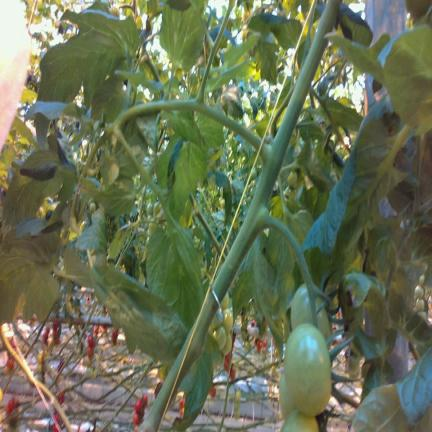6kp_peduncle: (235, 168, 315, 296)
6kp_petiole: (228, 111, 297, 201)
MainStem: (139, 0, 342, 432)
tomato: (284, 323, 331, 416), (291, 284, 332, 338), (281, 409, 319, 430), (279, 374, 294, 418), (222, 310, 233, 332), (216, 326, 226, 350), (222, 333, 232, 354), (287, 171, 297, 189), (211, 315, 221, 330), (221, 292, 229, 310), (148, 222, 157, 236), (153, 202, 161, 216), (414, 286, 423, 298), (415, 299, 424, 311), (135, 398, 142, 413), (88, 334, 95, 347), (86, 346, 93, 358), (418, 311, 427, 320), (230, 365, 235, 381), (133, 413, 139, 425), (235, 390, 241, 402), (242, 330, 248, 341), (219, 198, 225, 209), (244, 340, 250, 350), (89, 202, 95, 212), (419, 274, 424, 286), (211, 257, 216, 266), (212, 247, 216, 255)
